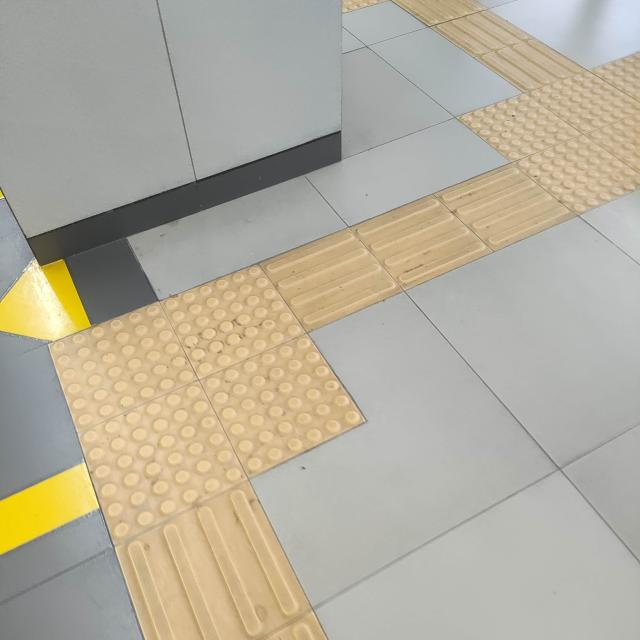kanan: (28, 225, 487, 556)
